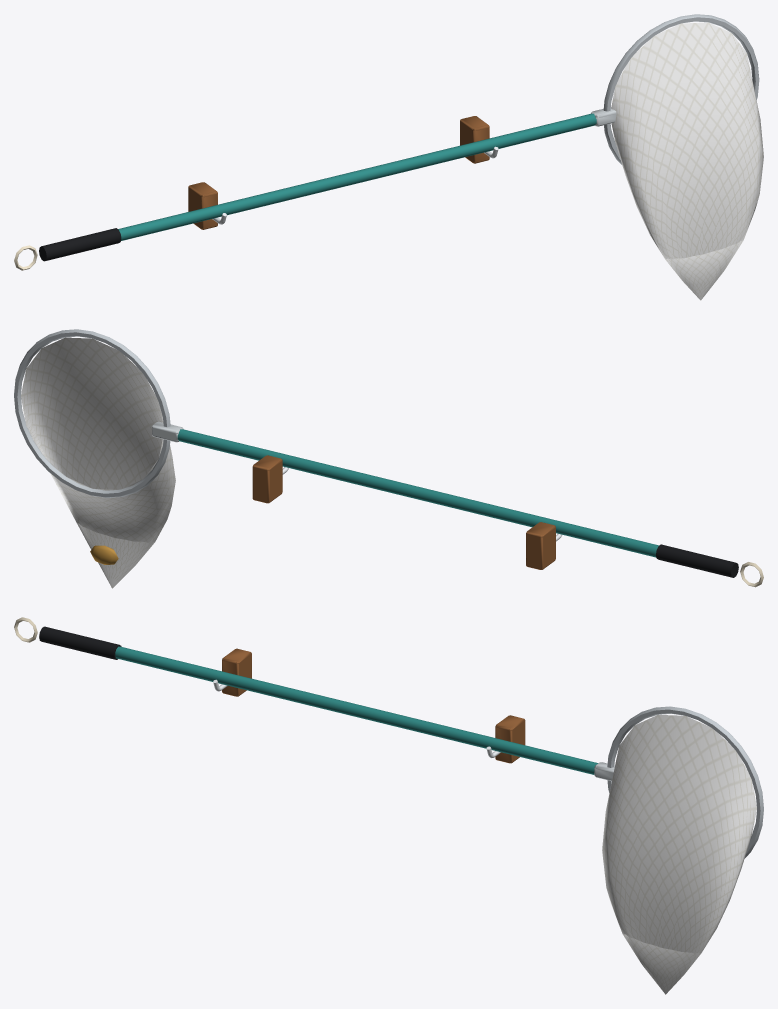
The model's file is fish_net.glb.
3 renders of one model, top to bottom at view 1: azimuth 30°, elevation 25°; view 2: azimuth 150°, elevation 25°; view 3: azimuth 330°, elevation 25°, orthographic.
Parts seen in each view (by area): view 1: FishNetMesh, Handle; view 2: FishNetMesh, Handle; view 3: FishNetMesh, Handle.
Boxes of the visible parts, box(x1,y1,x2,y2) form: FishNetMesh: box(14, 14, 763, 300); Handle: box(118, 113, 596, 240); FishNetMesh: box(14, 329, 763, 588); Handle: box(177, 429, 658, 557); FishNetMesh: box(14, 617, 763, 994); Handle: box(115, 646, 597, 774).
Bounding box in the file's own units: 2.2 × 0.76 × 0.2386.
Materials: 9 (2 with a texture image).
